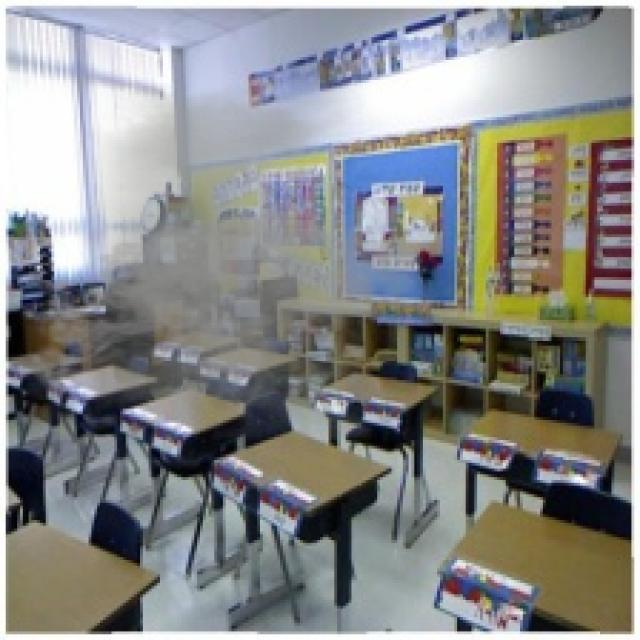Smoke: (14, 83, 440, 440)
